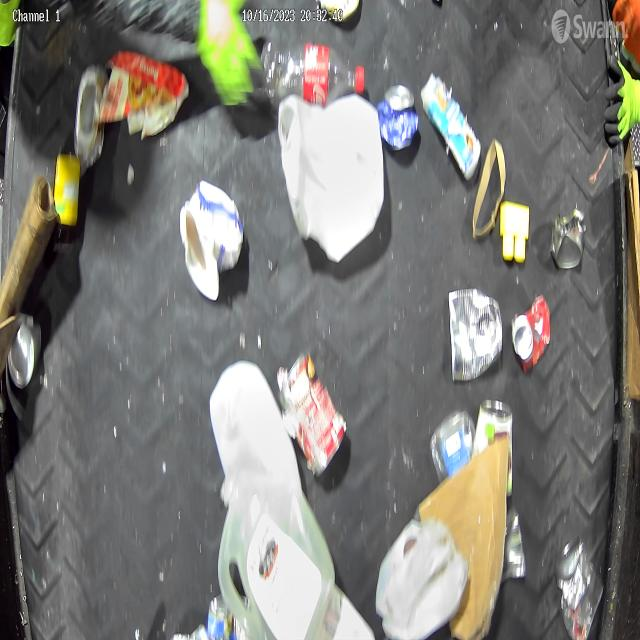can: (278, 352, 348, 478), (448, 287, 503, 384), (555, 535, 605, 640), (510, 291, 552, 373), (377, 82, 420, 153), (8, 316, 44, 388), (550, 204, 587, 270)
milk_jug: (217, 472, 336, 640), (277, 91, 384, 263), (209, 360, 302, 490), (375, 517, 469, 640)
plastic_bottle: (262, 38, 366, 104)
